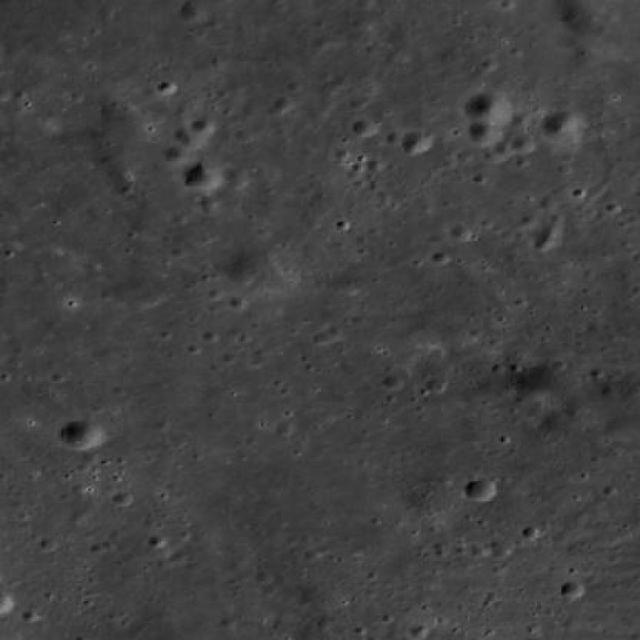crater: (226, 250, 294, 301), (408, 480, 466, 522), (514, 364, 566, 402), (462, 92, 513, 128), (538, 111, 584, 144), (60, 419, 100, 448), (183, 164, 222, 192), (468, 120, 503, 146), (462, 478, 496, 502), (400, 131, 432, 154), (222, 169, 250, 189), (162, 146, 190, 166), (178, 1, 205, 21), (559, 580, 584, 598), (352, 119, 376, 136), (512, 136, 536, 153), (507, 109, 530, 126), (494, 139, 516, 156), (449, 224, 471, 240), (192, 118, 214, 134), (310, 34, 332, 50), (492, 540, 514, 556), (196, 196, 218, 210)
